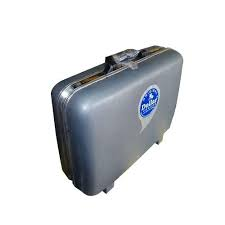suitcase: (49, 44, 185, 197)
